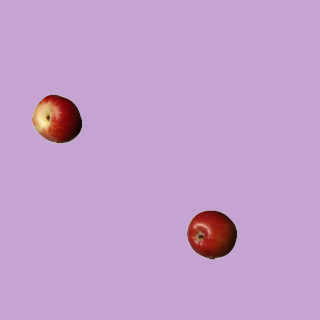Apple Braeburn: (186, 209, 236, 259)
Nectarine: (31, 93, 81, 143)
